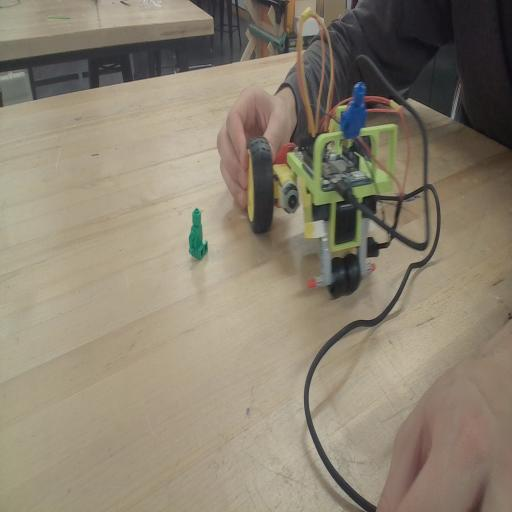blue LEGO minifig: (338, 78, 368, 142)
green LEGO minifig: (186, 204, 208, 260)
